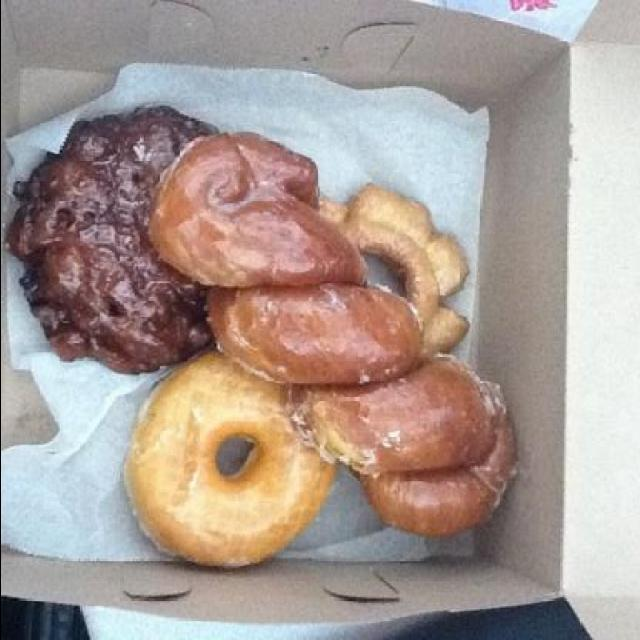Donuts: (1, 77, 524, 601)
